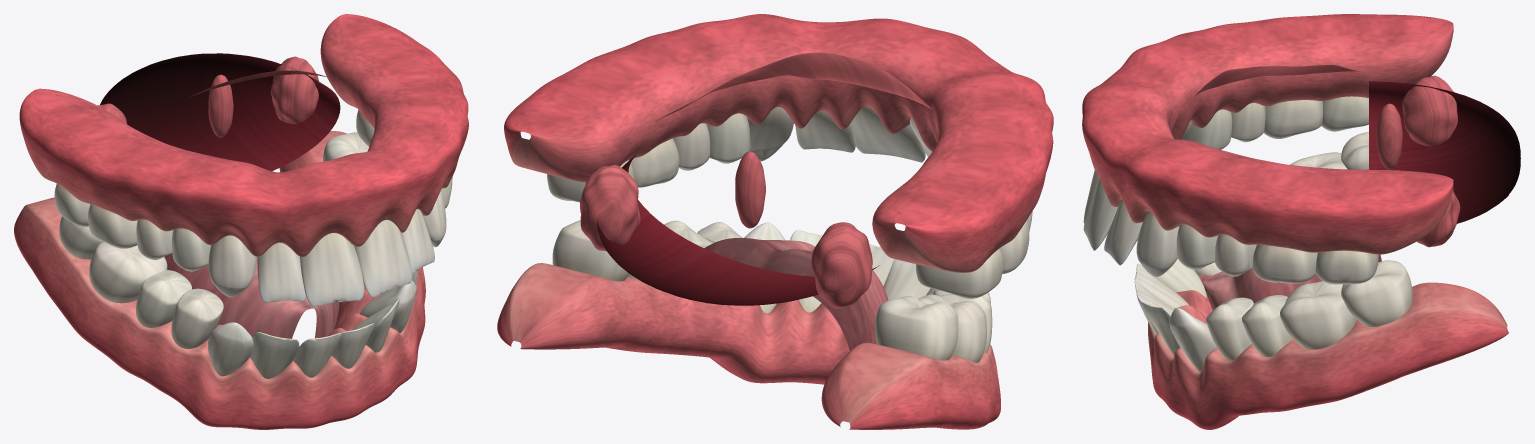
The model's file is dental_model.glb.
3 views of the same model, side by side, from view 1: azimuth 30°, elevation 25°; view 2: azimuth 150°, elevation 25°; view 3: azimuth 270°, elevation 25° (orthographic). The views are drawn at different scales.
Parts seen in each view (by area): view 1: Upper_jaw, Lower_jaw, Mouth_cavity; view 2: Upper_jaw, Lower_jaw, Mouth_cavity; view 3: Upper_jaw, Lower_jaw, Mouth_cavity.
Part boxes in pixels (left/top/right/bottom): Upper_jaw: left=19, top=14, right=468, bottom=306; Lower_jaw: left=14, top=131, right=425, bottom=429; Mouth_cavity: left=98, top=53, right=340, bottom=171; Upper_jaw: left=504, top=14, right=1053, bottom=298; Lower_jaw: left=497, top=220, right=1000, bottom=429; Mouth_cavity: left=580, top=52, right=931, bottom=308; Upper_jaw: left=1082, top=14, right=1453, bottom=284; Lower_jaw: left=1134, top=132, right=1508, bottom=429; Mouth_cavity: left=1192, top=65, right=1520, bottom=247.
Bounding box in the file's own units: 0.0677 × 0.0486 × 0.0635.
Materials: 4 (4 with a texture image).
